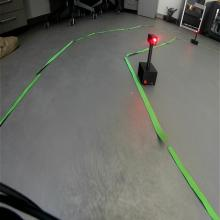red: (147, 33, 158, 47)
